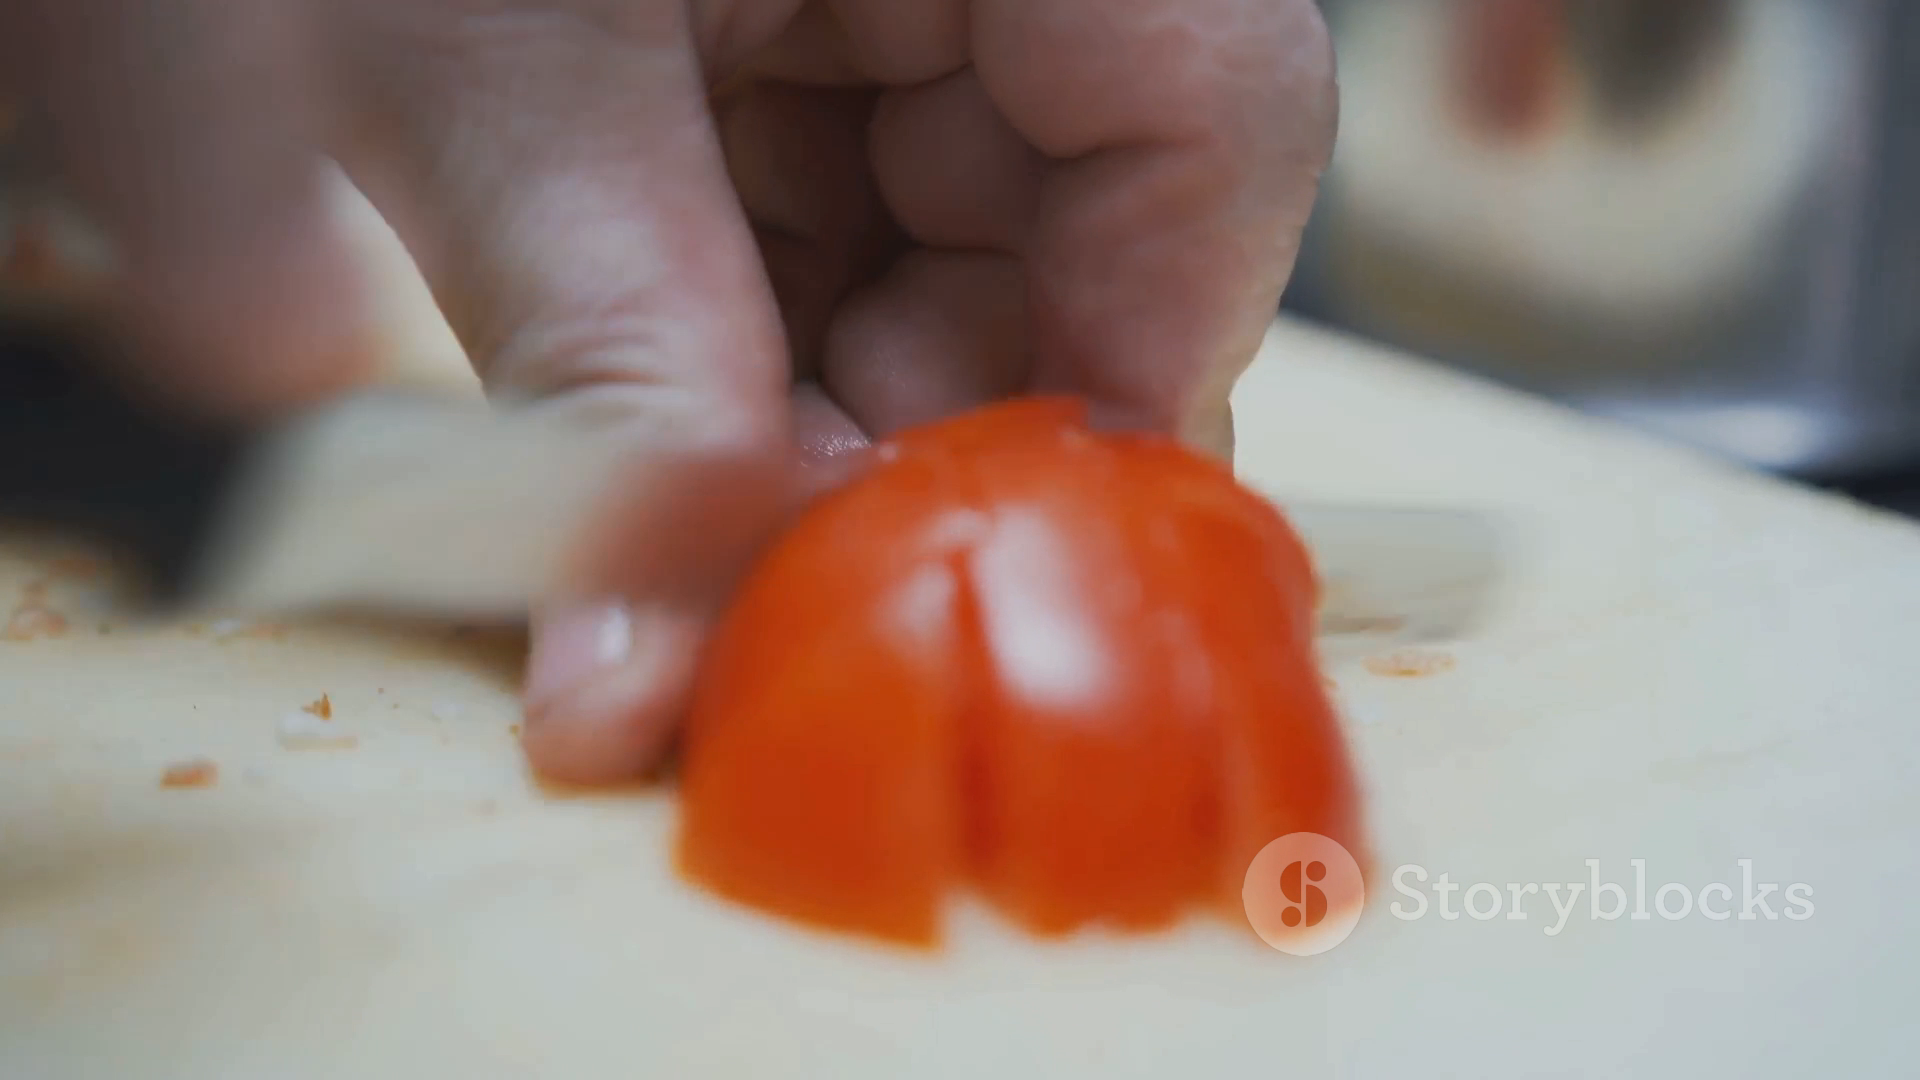cortante: (228, 397, 893, 625), (1251, 492, 1515, 650)
